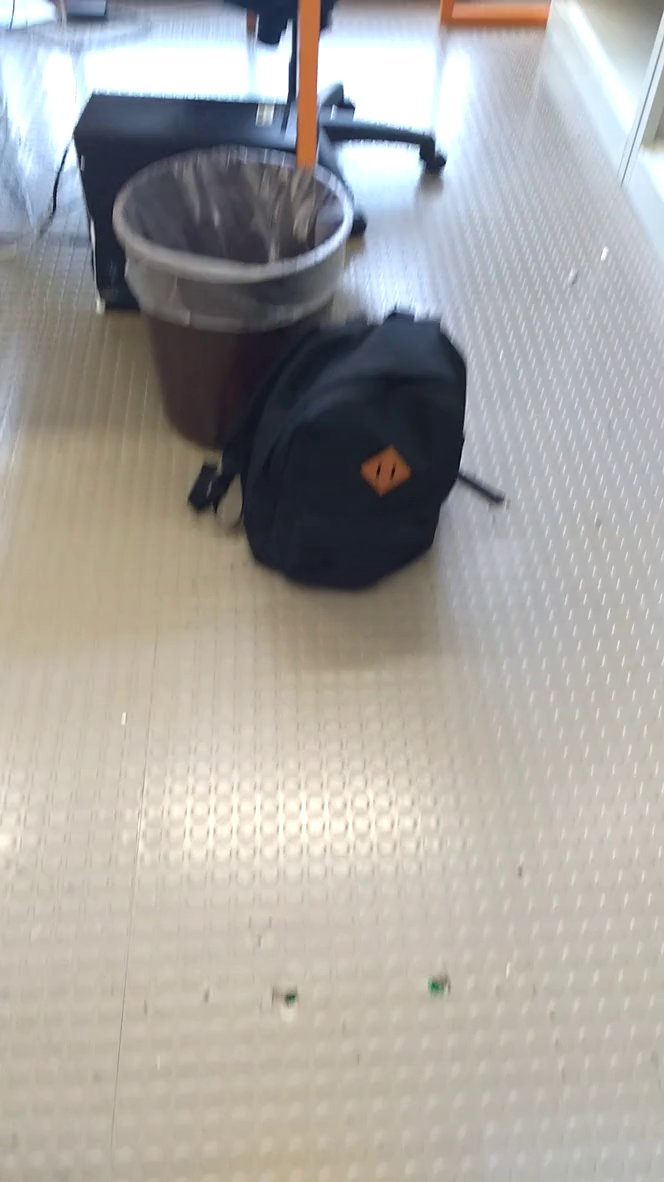bag: (170, 302, 493, 603)
bin: (106, 127, 359, 398)
